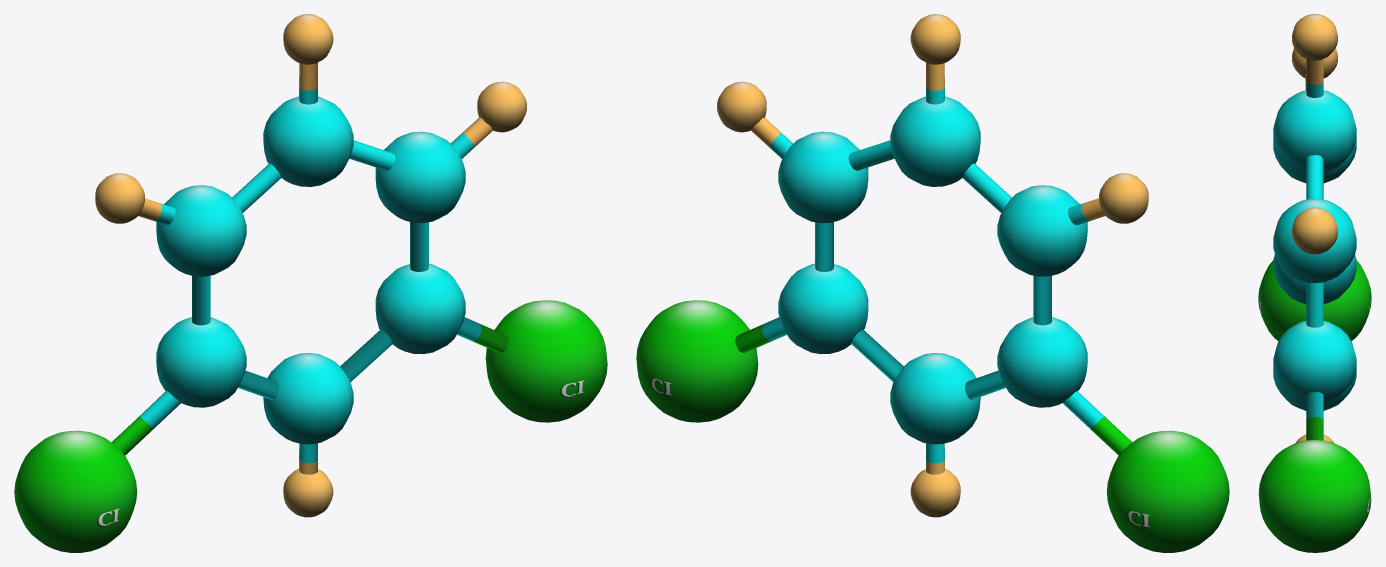
Rendered from m-Dichlorobenzene.dae.
3 views of the same model, side by side, from view 1: azimuth 30°, elevation 25°; view 2: azimuth 150°, elevation 25°; view 3: azimuth 270°, elevation 25° (orthographic). The views are drawn at different scales.
Visible parts, largest first — view 1: polySurface28; view 2: polySurface28; view 3: polySurface28.
Part boxes in pixels (box(x1,y1,x2,y2)): polySurface28: box(14, 14, 607, 552); polySurface28: box(636, 14, 1229, 552); polySurface28: box(1258, 14, 1371, 552).
Size of the model in its own units: 5.09 by 4.21 by 0.9389.
Materials: 1 (1 with a texture image).
